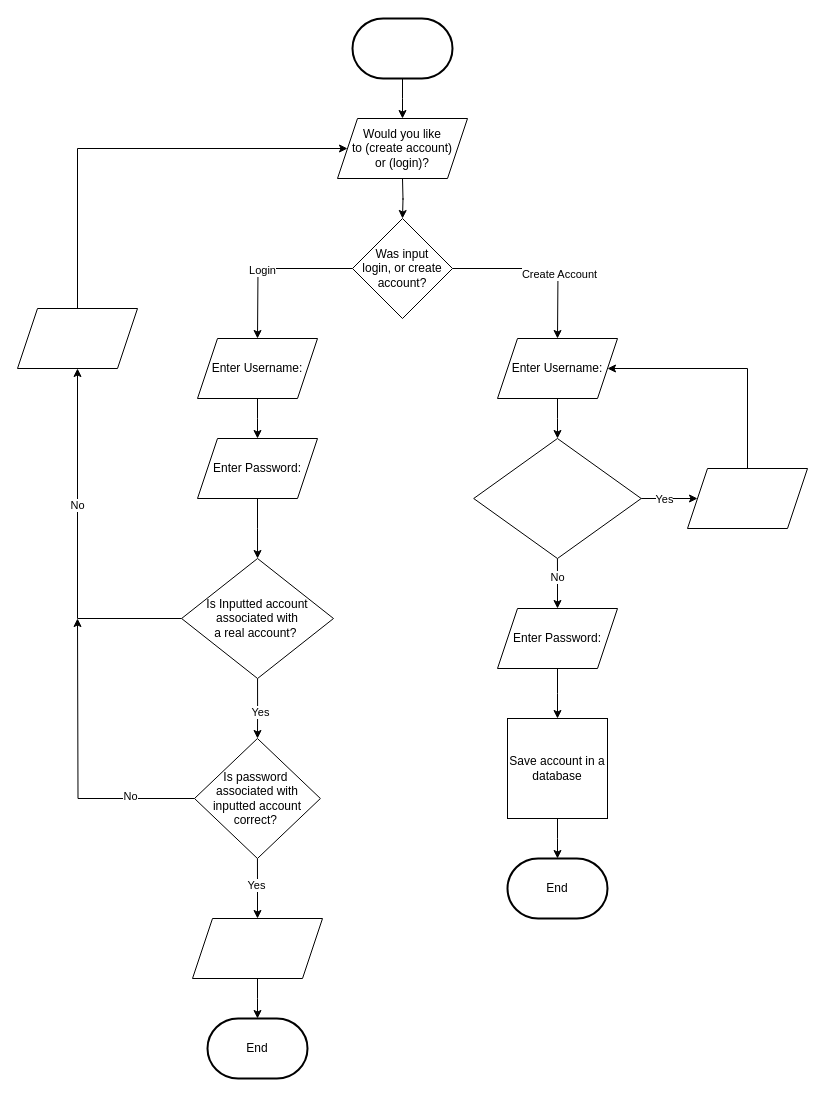
This 825x1096 diagram has some shape labels left out. The shapes that lost their labels are listed below. From the top down, each one's centre as x and y in pixels, then its label:
At point (402, 48): "Start".
At point (77, 338): "sorry account does not match records".
At point (557, 498): "Is username already associated with a account?".
At point (747, 498): "Username already taken".
At point (257, 948): "welcome, [inputted username here]".
